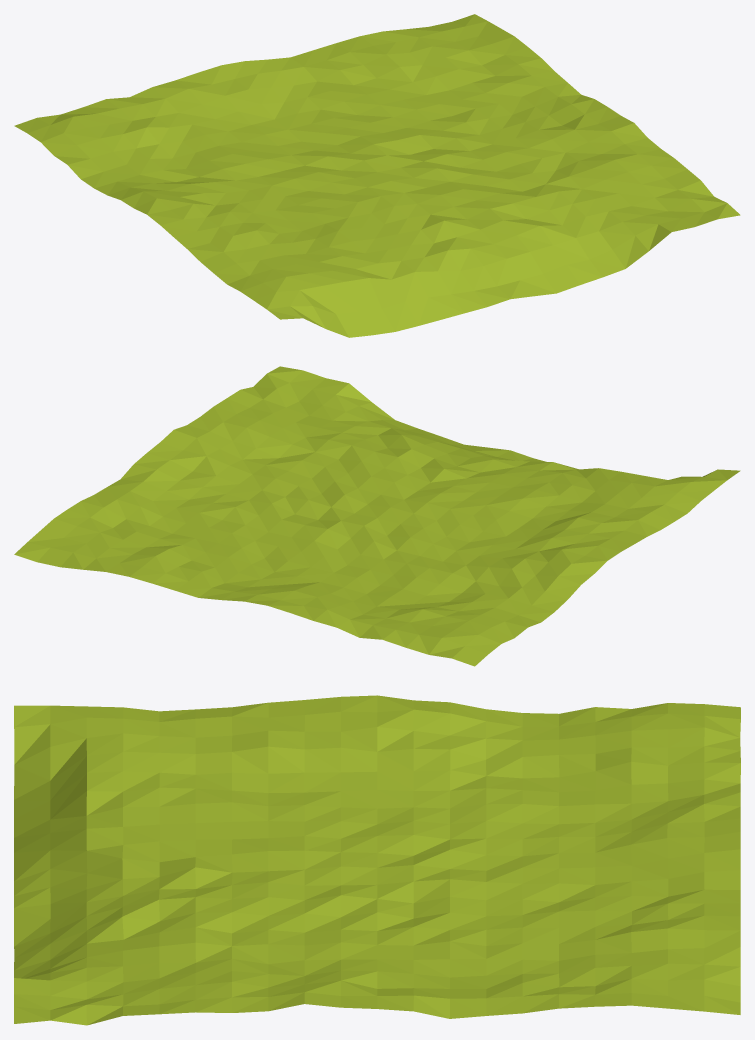
The model's file is Terrain_A.fbx.
The picture shows the model from 3 angles, top to bottom: view 1: azimuth 30°, elevation 25°; view 2: azimuth 150°, elevation 25°; view 3: azimuth 270°, elevation 25°; orthographic projection. The views are drawn at different scales.
Visible parts, largest first — view 1: Terrain A; view 2: Terrain A; view 3: Terrain A.
Part boxes in pixels (<box>): Terrain A: <box>14,14,740,337</box>; Terrain A: <box>14,366,740,666</box>; Terrain A: <box>14,695,740,1025</box>.
Size of the model in its own units: 2001 by 210 by 2001.
